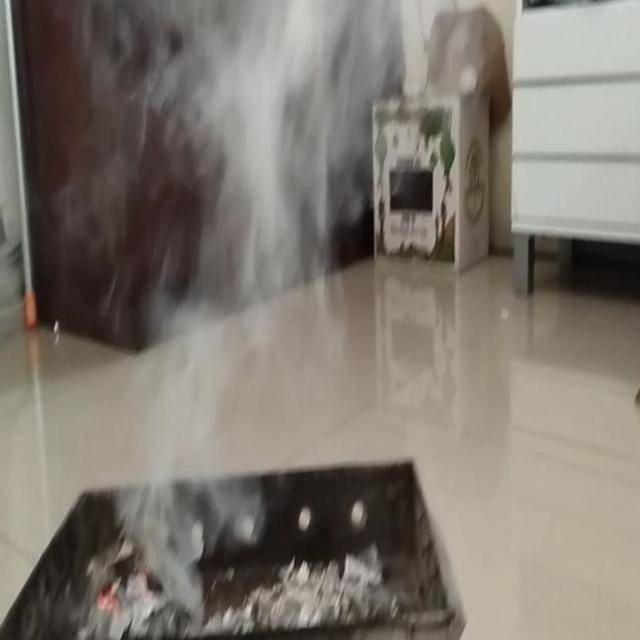fire: (182, 8, 353, 339), (112, 322, 266, 608)
